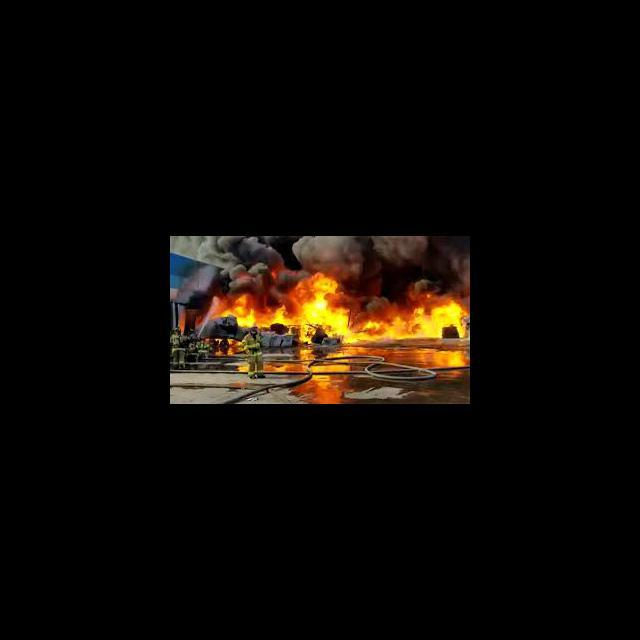Fire: (299, 274, 353, 344), (220, 292, 295, 330), (414, 298, 466, 340), (358, 316, 410, 344)
Smoke: (356, 236, 468, 297), (170, 237, 294, 290), (296, 236, 354, 273), (355, 298, 409, 312)
